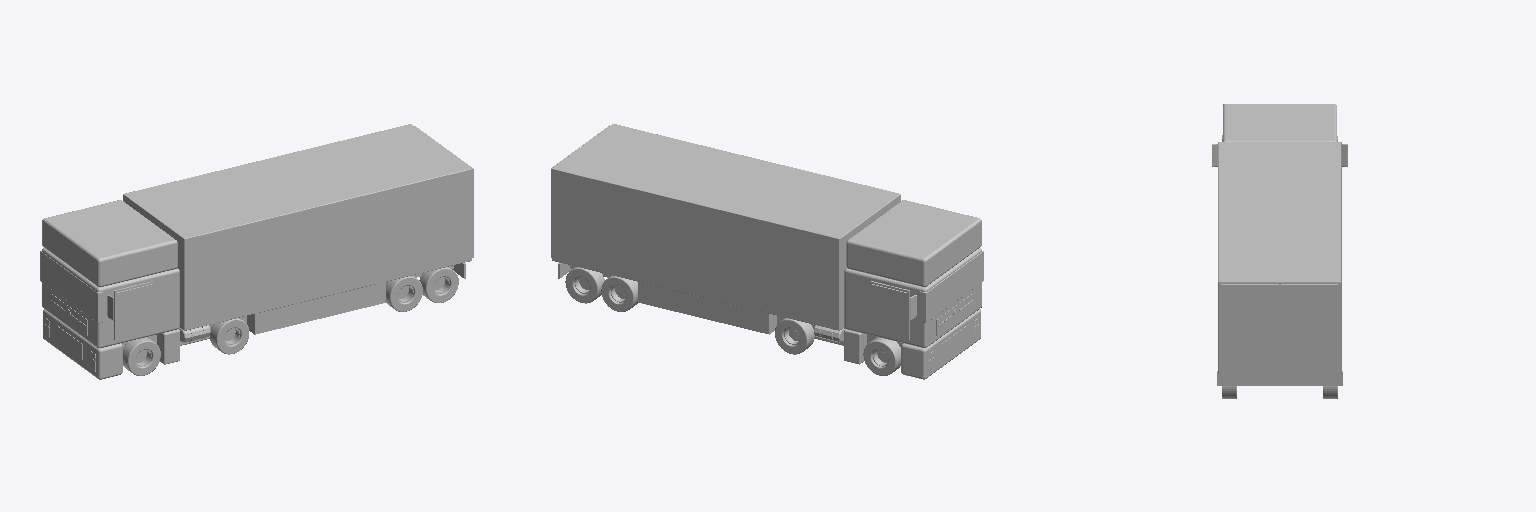
The model's file is car1.obj.
3 views of the same model, side by side, from view 1: azimuth 30°, elevation 25°; view 2: azimuth 150°, elevation 25°; view 3: azimuth 270°, elevation 25° (orthographic).
Parts seen in each view (by area): view 1: 集装箱, 立方体.5, 立方体.2, 立方体.6, 前挡风, 立方体, 立方体.7_1, 轮胎1_7, 轮胎1_5, 轮胎1_1, 轮胎1_3, 立方体.9_1 (+2 smaller); view 2: 集装箱, 立方体.5, 立方体.2, 立方体.6, 前挡风, 立方体, 立方体.7, 轮胎1_6, 轮胎1_4, 轮胎1, 轮胎1_2, 立方体.9 (+2 smaller); view 3: 集装箱, 右门, 左门, 立方体.5, 立方体.4.
Boxes of the visible parts, box(x1,y1,x2,y2) form: 集装箱: box(123, 124, 471, 330); 立方体.5: box(42, 200, 177, 286); 立方体.2: box(42, 248, 179, 347); 立方体.6: box(247, 282, 385, 334); 前挡风: box(40, 251, 103, 323); 立方体: box(43, 309, 122, 379); 立方体.7_1: box(114, 281, 152, 339); 轮胎1_7: box(123, 337, 160, 375); 轮胎1_5: box(210, 318, 248, 354); 轮胎1_1: box(419, 267, 458, 302); 轮胎1_3: box(386, 275, 422, 311); 立方体.9_1: box(117, 284, 151, 313); 集装箱: box(552, 124, 900, 330); 立方体.5: box(846, 200, 981, 286); 立方体.2: box(844, 248, 981, 347); 立方体.6: box(638, 282, 776, 334); 前挡风: box(920, 251, 983, 322); 立方体: box(901, 309, 980, 379); 立方体.7: box(871, 281, 909, 339); 轮胎1_6: box(863, 337, 900, 375); 轮胎1_4: box(775, 318, 814, 354); 轮胎1: box(565, 267, 604, 303); 轮胎1_2: box(601, 276, 637, 311); 立方体.9: box(872, 284, 906, 313); 集装箱: box(1218, 142, 1341, 373); 右门: box(1221, 284, 1278, 373); 左门: box(1281, 284, 1337, 373); 立方体.5: box(1223, 104, 1336, 141); 立方体.4: box(1217, 371, 1342, 385).
Bounding box in the file's own units: 22735 × 7469 × 7140.